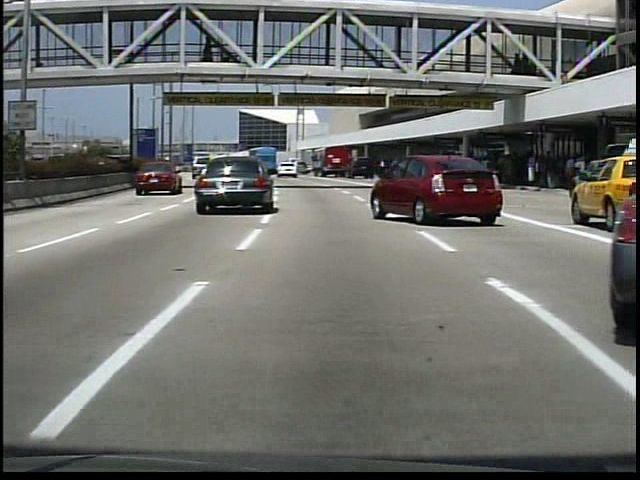person: (204, 35, 219, 63)
